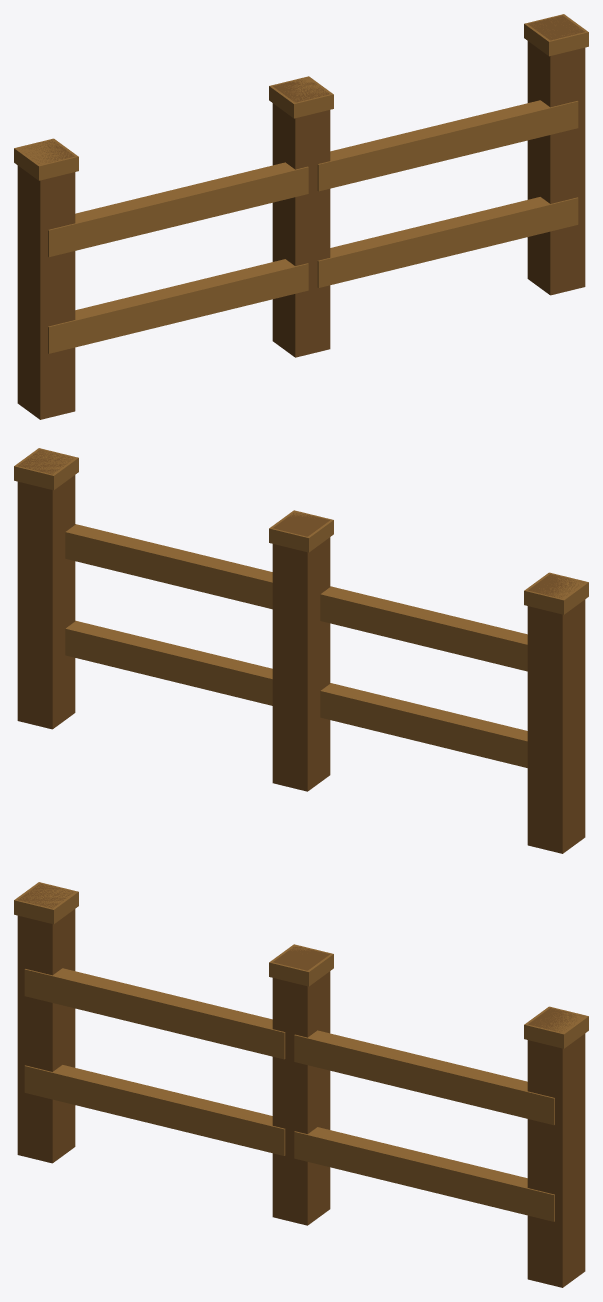
The model's file is SM_DC_Fence_Coarse.fbx.
3 renders of one model, top to bottom at view 1: azimuth 30°, elevation 25°; view 2: azimuth 150°, elevation 25°; view 3: azimuth 330°, elevation 25°, orthographic.
Visible parts, largest first — view 1: SM_DC_Fence_Coarse; view 2: SM_DC_Fence_Coarse; view 3: SM_DC_Fence_Coarse.
Boxes of the visible parts, x1,y1,x2,y2 form: SM_DC_Fence_Coarse: [14, 14, 588, 419]; SM_DC_Fence_Coarse: [14, 448, 588, 853]; SM_DC_Fence_Coarse: [14, 882, 588, 1287].
Size of the model in its own units: 2.8 by 0.22 by 1.24.
